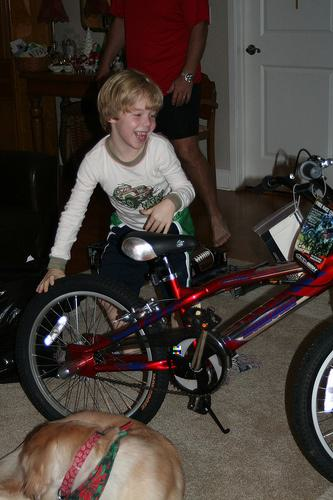car: (21, 224, 333, 477)
dog: (1, 404, 188, 500)
person: (41, 75, 206, 298), (101, 5, 235, 245)
